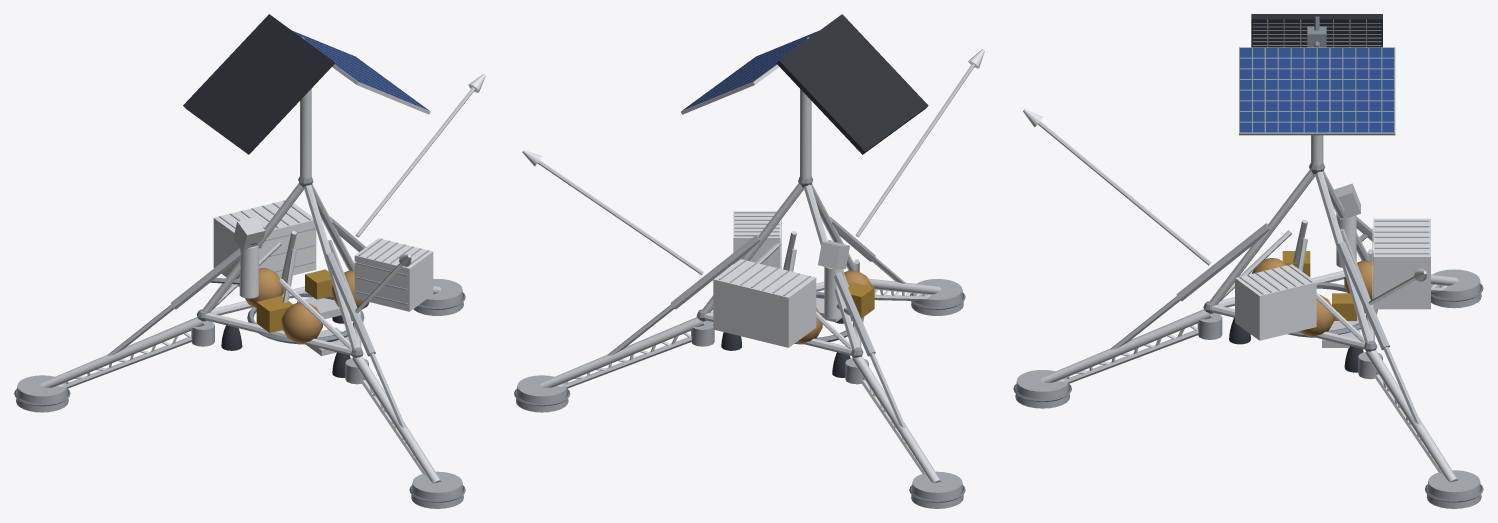
The model's file is surveyor.glb.
3 renders of one model, left to right at view 1: azimuth 30°, elevation 25°; view 2: azimuth 150°, elevation 25°; view 3: azimuth 270°, elevation 25°, orthographic. The views are drawn at different scales.
Visible parts, largest first — view 1: body, foil, solar-panel; view 2: body, solar-panel, foil; view 3: body, solar-panel, foil.
Boxes of the visible parts, <box> form: body: <box>14,14,485,508</box>; foil: <box>245,268,369,343</box>; solar-panel: <box>292,30,428,110</box>; body: <box>514,14,984,508</box>; solar-panel: <box>683,30,819,109</box>; foil: <box>796,270,874,343</box>; body: <box>1013,14,1483,508</box>; solar-panel: <box>1240,48,1393,132</box>; foil: <box>1251,251,1373,337</box>.
Size of the model in its own units: 3.97 by 3.06 by 3.43.
